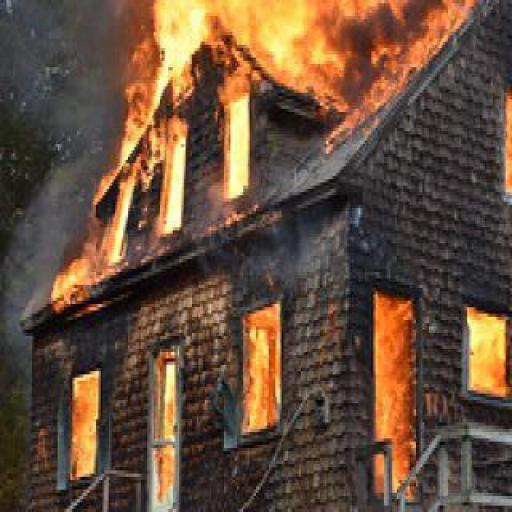smoke: (131, 5, 458, 160), (365, 277, 413, 488), (14, 147, 101, 250), (242, 302, 283, 432), (46, 253, 109, 325), (72, 365, 106, 480), (466, 306, 508, 398)
